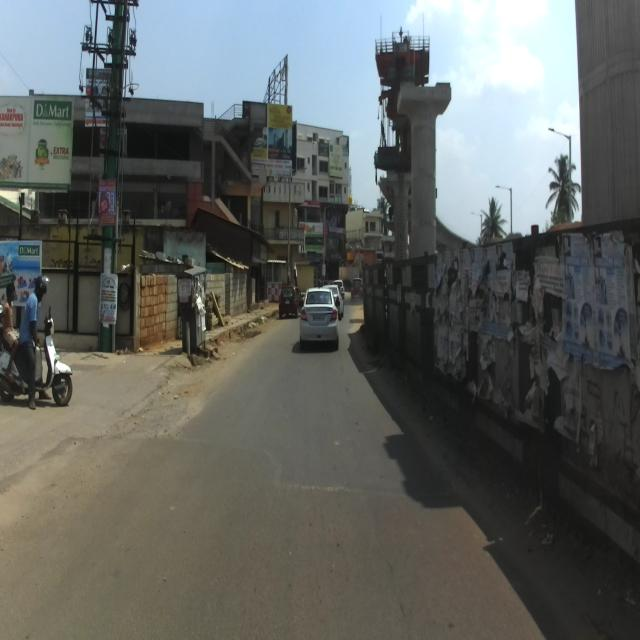car ahead at: (299, 281, 344, 353)
electric pole ahead at: (83, 0, 137, 351)
motorcycle ahead at: (0, 313, 76, 416)
